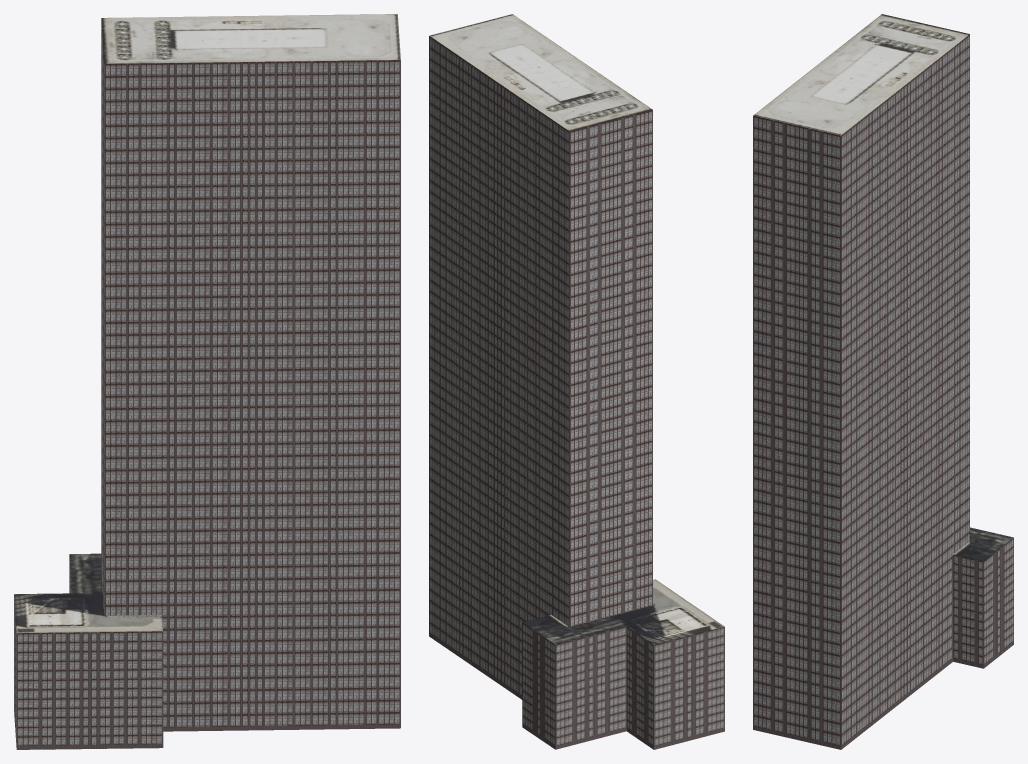
File: building31.fbx
3 views of the same model, side by side, from view 1: azimuth 30°, elevation 25°; view 2: azimuth 150°, elevation 25°; view 3: azimuth 270°, elevation 25° (orthographic). The views are drawn at different scales.
Visible parts, largest first — view 1: geometryt040100010000000110110100110010000010010st63_Ex_d1b0, Object.393, geometryt040100010000000110110100110010000010010st64_Ex_ab07; view 2: geometryt040100010000000110110100110010000010010st63_Ex_d1b0, Object.393, geometryt040100010000000110110100110010000010010st64_Ex_ab07; view 3: geometryt040100010000000110110100110010000010010st63_Ex_d1b0, Object.393, geometryt040100010000000110110100110010000010010st64_Ex_ab07.
Boxes of the visible parts, bbox=[...] form: geometryt040100010000000110110100110010000010010st63_Ex_d1b0: bbox=[14, 23, 399, 745]; Object.393: bbox=[14, 28, 400, 749]; geometryt040100010000000110110100110010000010010st64_Ex_ab07: bbox=[14, 14, 400, 633]; geometryt040100010000000110110100110010000010010st63_Ex_d1b0: bbox=[429, 36, 723, 745]; Object.393: bbox=[429, 36, 724, 749]; geometryt040100010000000110110100110010000010010st64_Ex_ab07: bbox=[429, 14, 724, 644]; geometryt040100010000000110110100110010000010010st63_Ex_d1b0: bbox=[754, 35, 1013, 745]; Object.393: bbox=[753, 34, 1013, 749]; geometryt040100010000000110110100110010000010010st64_Ex_ab07: bbox=[753, 14, 1013, 561].
Bounding box in the file's own units: 12732 × 22900 × 8812.
3 materials, 3 textured.
